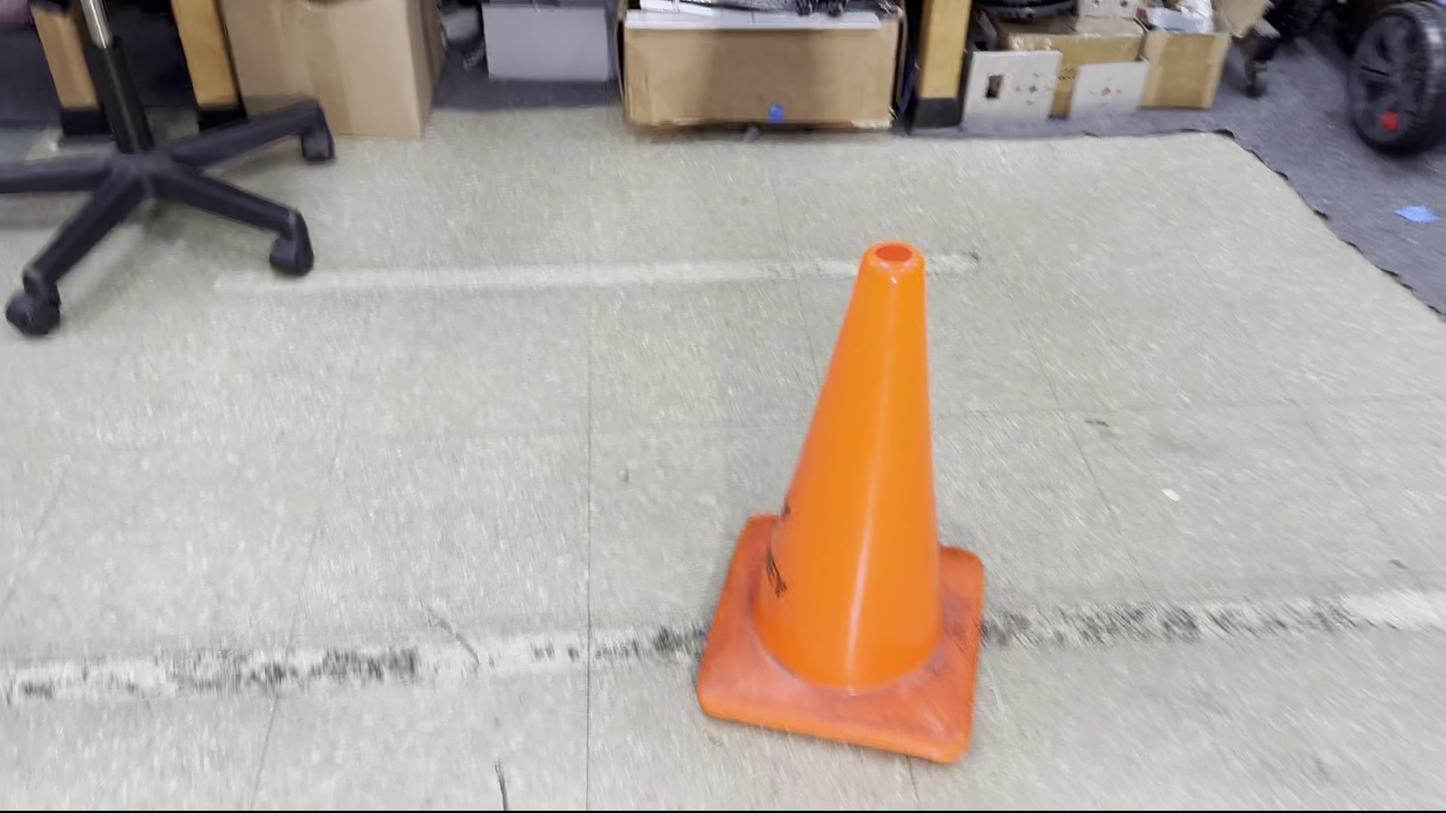traffic_cone: (694, 239, 986, 765)
